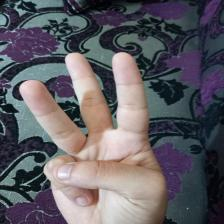five: (20, 50, 169, 216)
